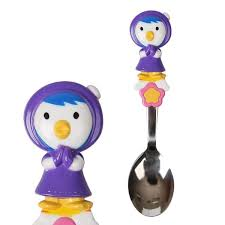Petty: (20, 78, 105, 212), (128, 8, 173, 81)
